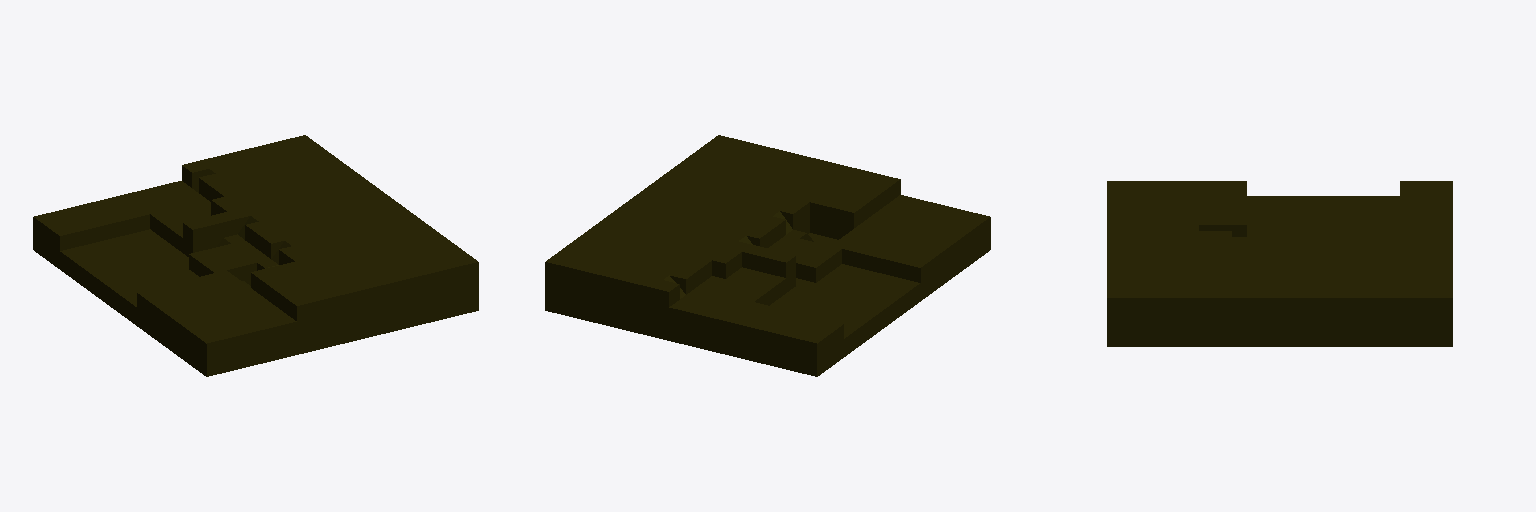
Rendered from dungeon1_ground_COL.obj.
The picture shows the model from 3 angles: view 1: azimuth 30°, elevation 25°; view 2: azimuth 150°, elevation 25°; view 3: azimuth 270°, elevation 25°; orthographic projection.
Parts seen in each view (by area): view 1: Plane.022; view 2: Plane.022; view 3: Plane.022.
Part boxes in pixels (x1,y1,x2,y2): Plane.022: (33, 135, 478, 376); Plane.022: (545, 135, 990, 376); Plane.022: (1107, 181, 1452, 346).
Size of the model in its own units: 22.38 by 3.85 by 24.7.